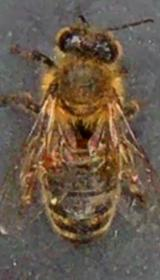varroa_mite: (38, 145, 67, 172)
